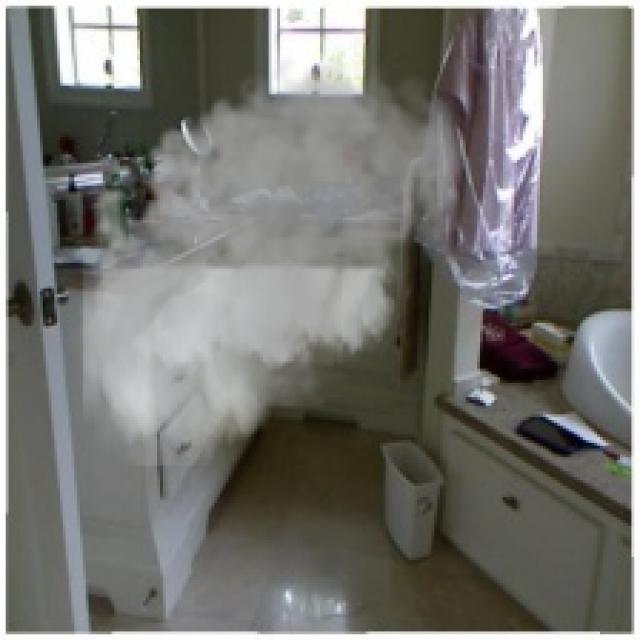Smoke: (66, 46, 472, 466)
